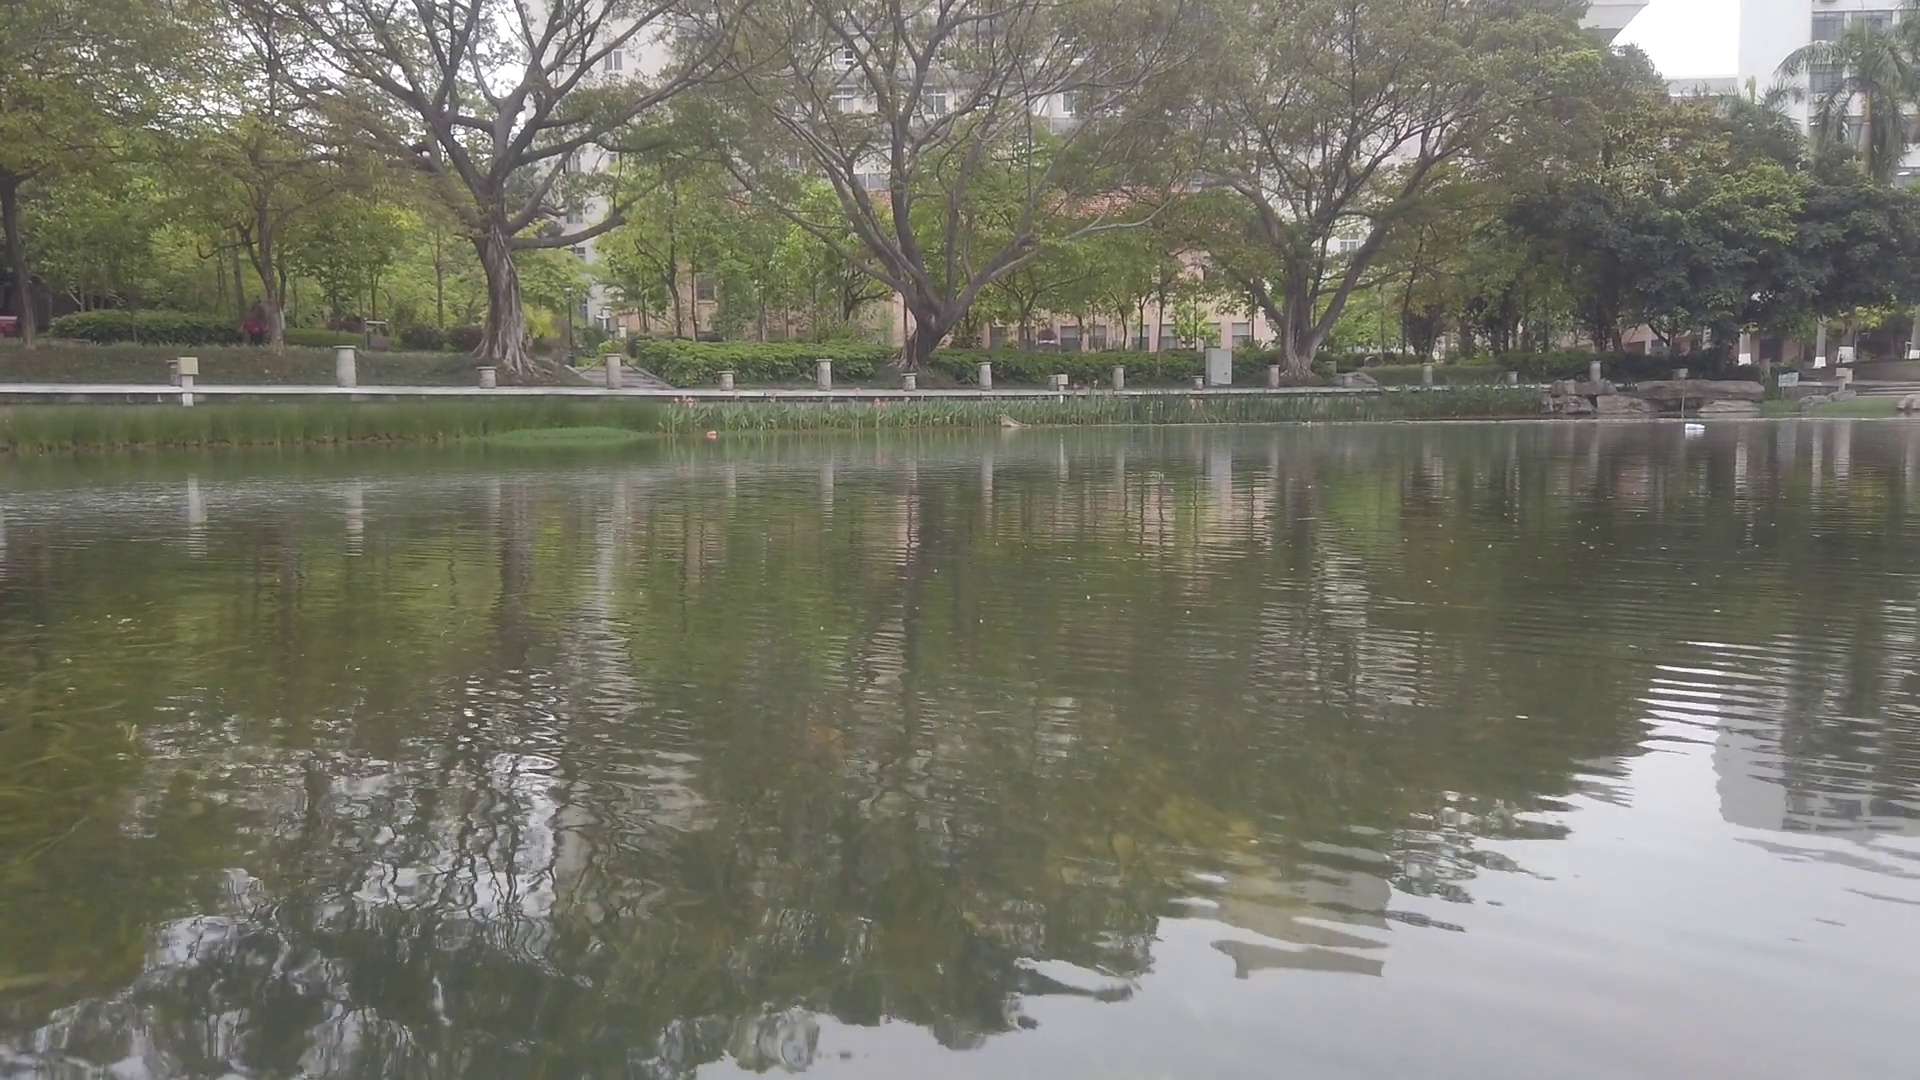bottle: (1684, 422, 1708, 430), (705, 429, 717, 436)
